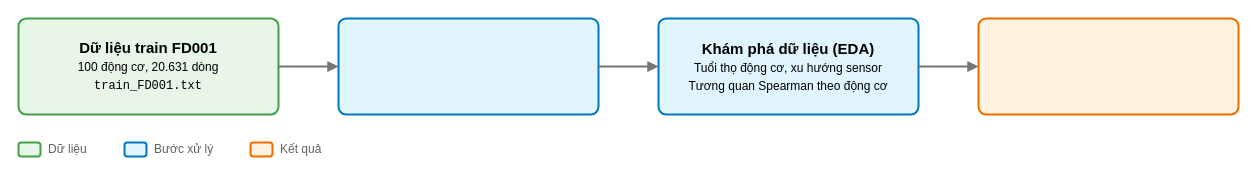
Some shapes in this 1256 by 177 pixel diagram are drawn without their labels. The centre of each missing label's shape, as x and y in pixels:
"Kết quả EDA Bảng CSV và hình PNG Lưu ở outputs/eda" goes at (x=1108, y=66).
"Đọc và kiểm tra Module cmapss.data Kiểm tra khóa; tính RUL" goes at (x=468, y=66).
